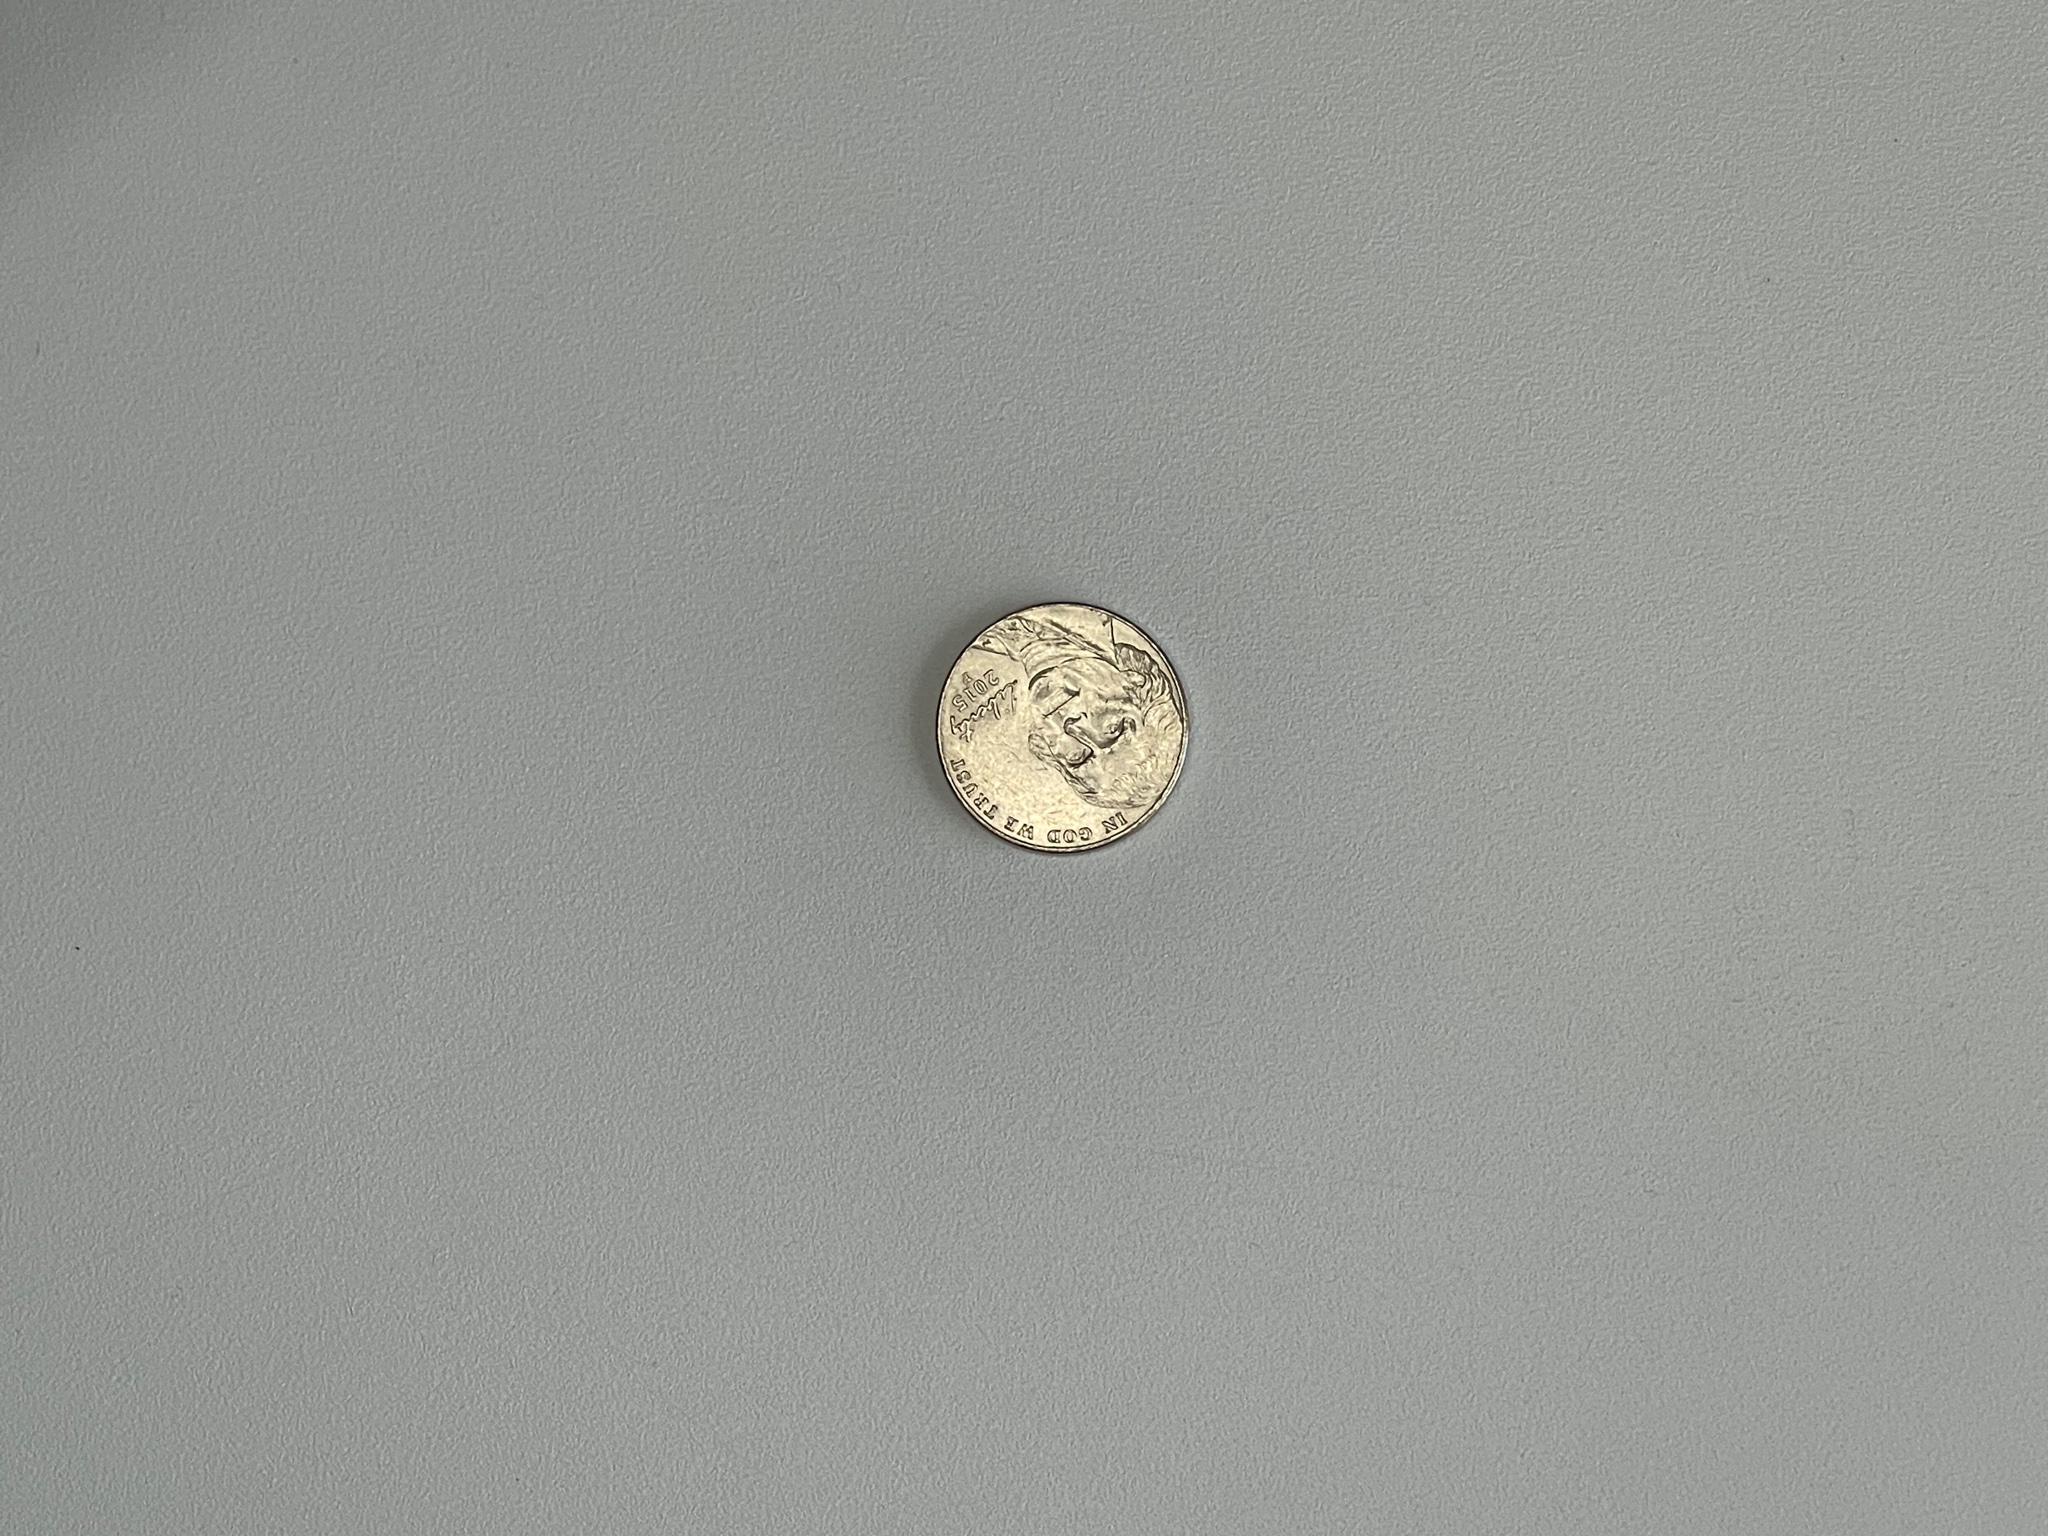nickel: (926, 595, 1198, 857)
